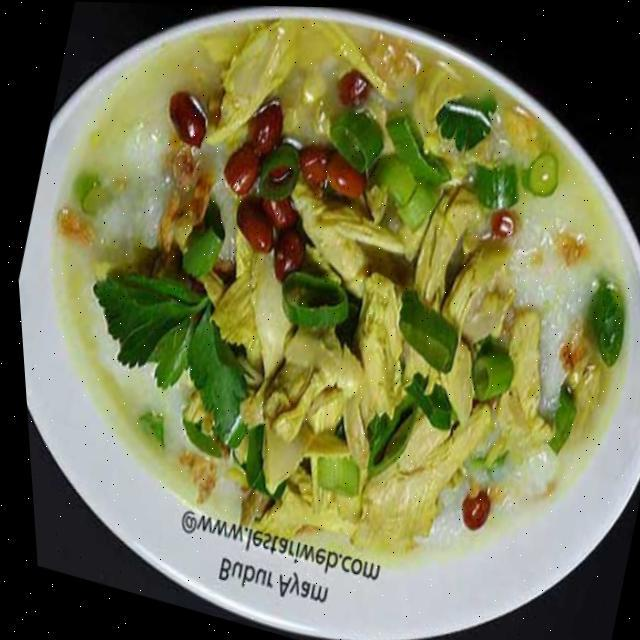bubur ayam: (0, 0, 640, 637)
mangkuk: (0, 0, 640, 640)
